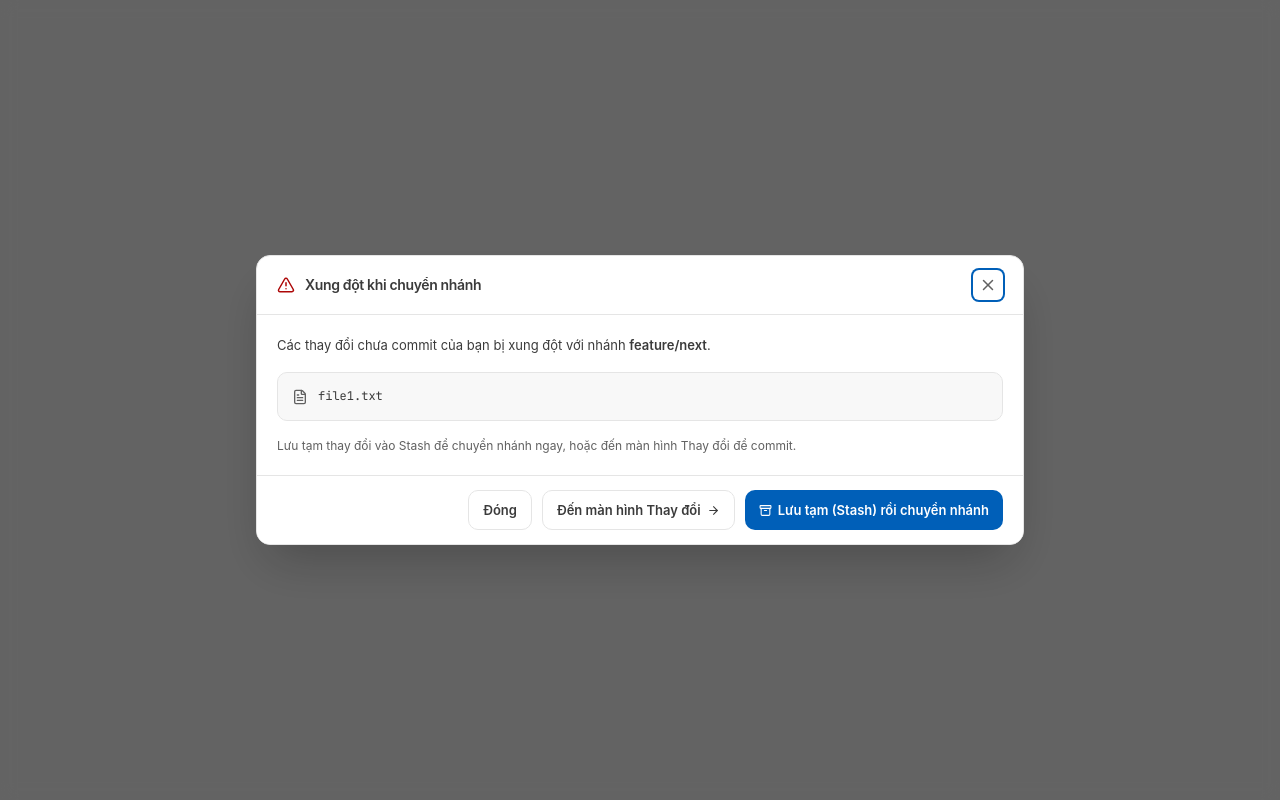
Test: CheckoutConflictModal - checkout fails after the auto-stash › does not pop anything when the stash itself fails
Click the button "Lưu tạm (Stash) rồi chuyển nhánh" at (874, 510), box [745,490,1003,530]
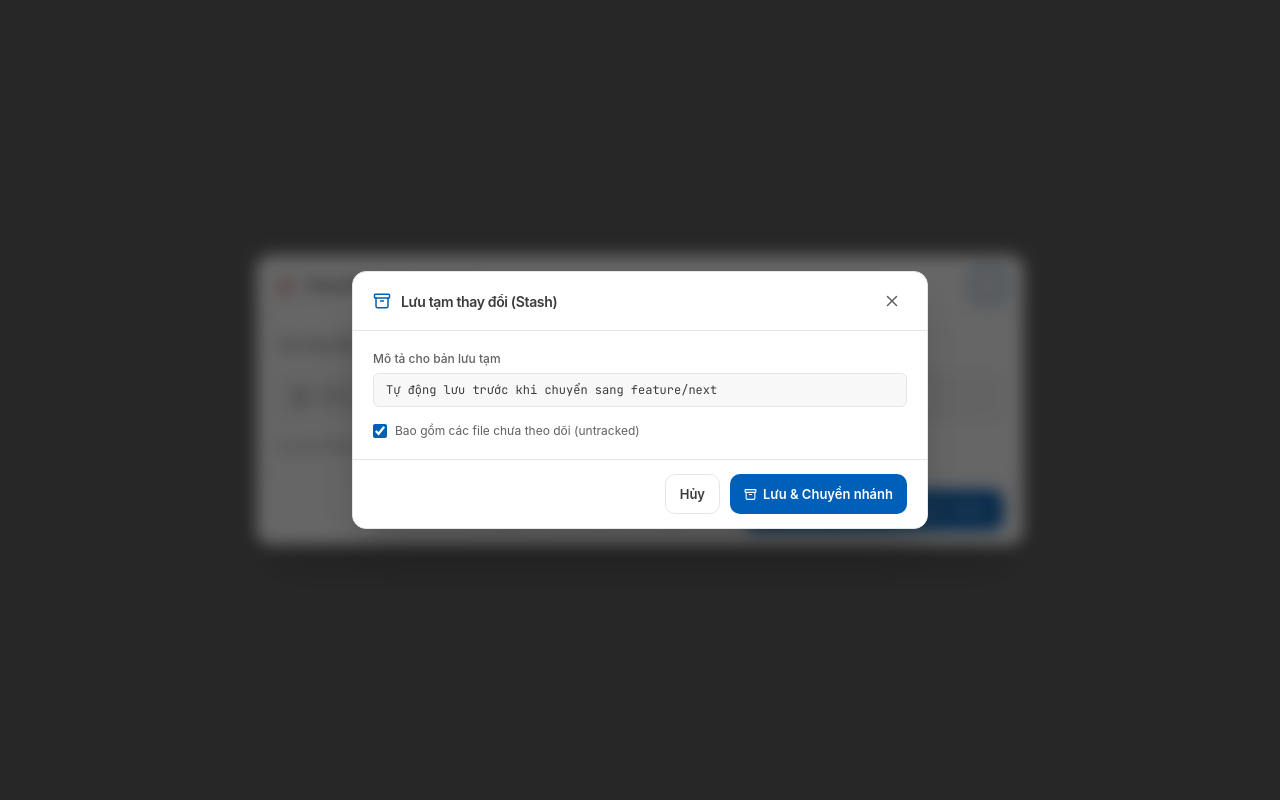
Click the button "Lưu & Chuyển nhánh" at (818, 494), box [730,474,907,514]
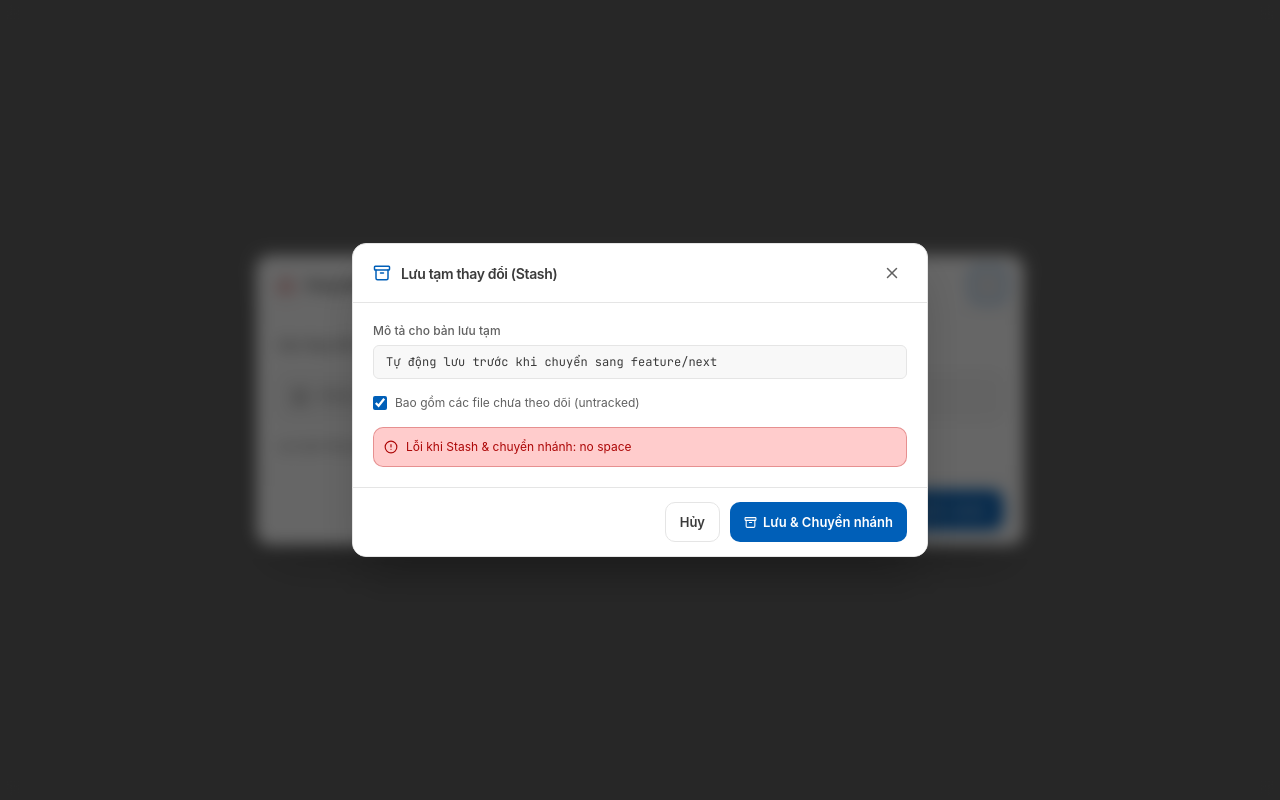
Result: the text "Lỗi khi Stash & chuyển nhánh: no space" is shown at [406,438,632,456]
